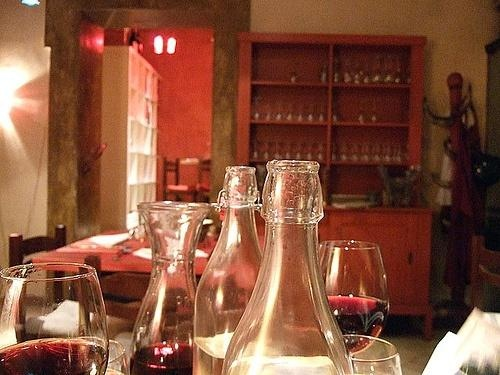bottle: (222, 160, 353, 375), (194, 167, 264, 375)
chair: (77, 254, 154, 339), (11, 221, 70, 267), (162, 155, 193, 203)
diningtable: (32, 226, 262, 275)
